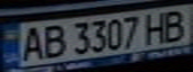0: (106, 16, 127, 51)
3: (87, 17, 109, 53), (69, 19, 90, 55)
7: (121, 14, 145, 47)
A: (15, 24, 48, 62)
B: (36, 21, 69, 60), (157, 7, 190, 43)
H: (139, 10, 172, 45)
